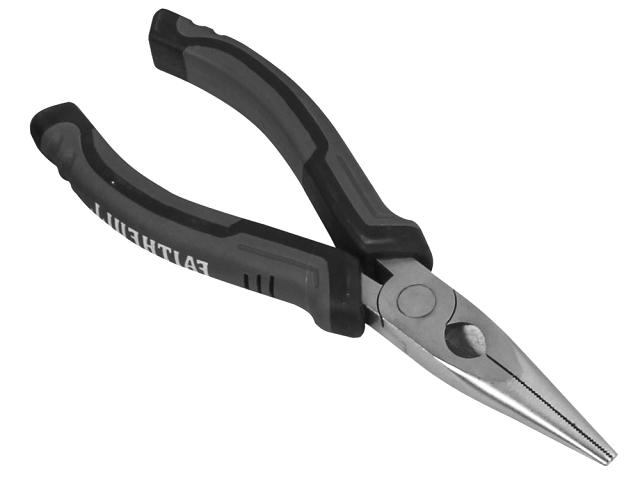Needle-nose pliers: (31, 10, 616, 465)
